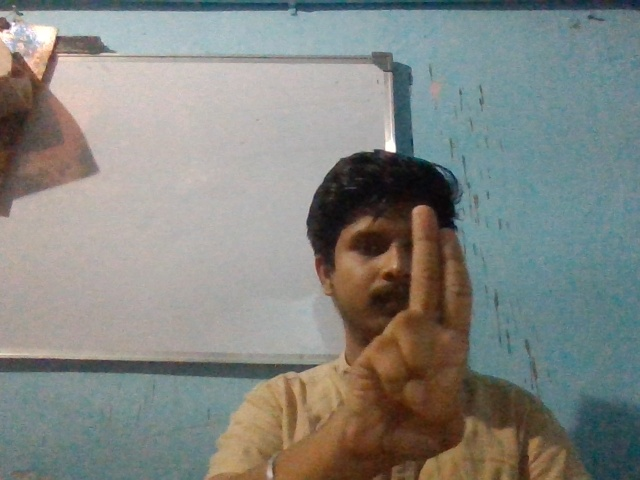Prana: (298, 191, 503, 458)
